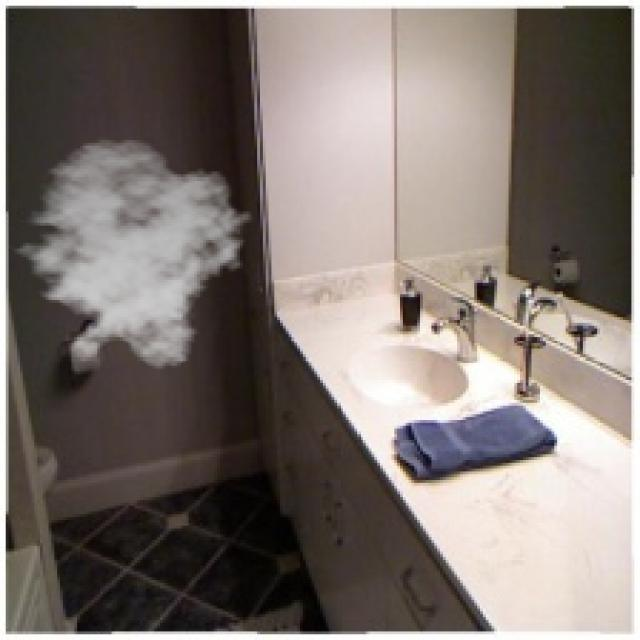smoke: (0, 137, 255, 372)
